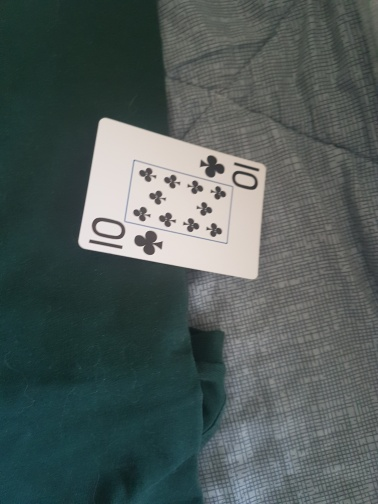ten: (78, 118, 268, 281)
